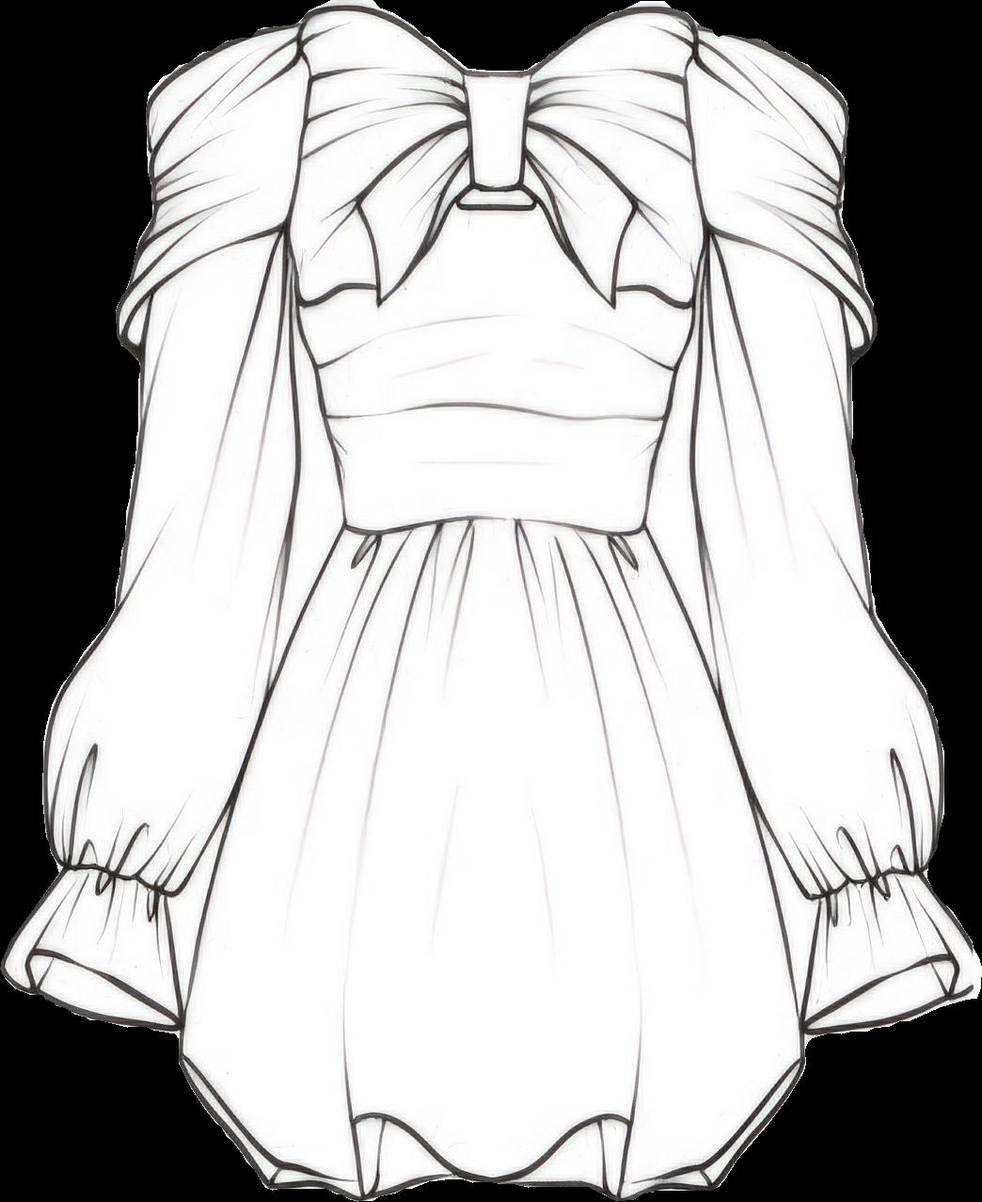Bodice: (282, 0, 710, 537)
Hemline: (173, 1053, 807, 1201)
Neckline: (293, 0, 699, 84)
Skirt: (171, 480, 810, 1201)
Sleeve: (0, 18, 307, 1050), (689, 31, 981, 1037)
Sleeveline: (143, 12, 312, 228), (682, 28, 849, 226), (799, 862, 927, 909), (53, 862, 182, 902)
Waistline: (117, 221, 289, 345), (714, 223, 872, 350), (340, 505, 653, 543)
